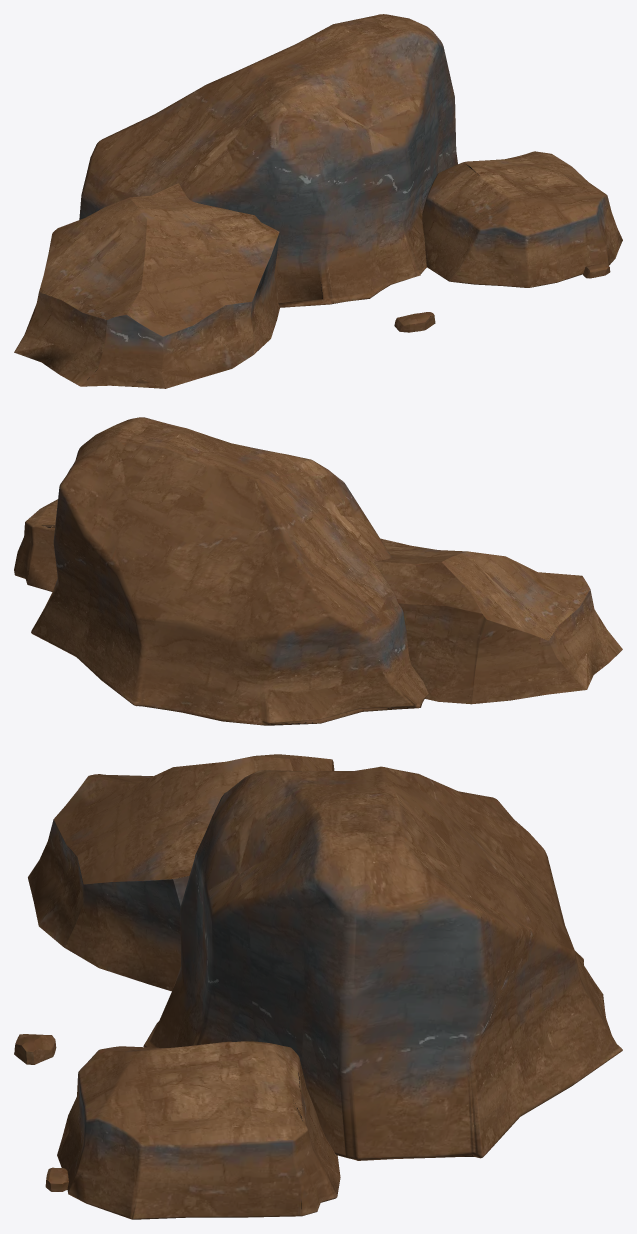
File: titanium-three-knuckles.glb
The picture shows the model from 3 angles, top to bottom: view 1: azimuth 30°, elevation 25°; view 2: azimuth 150°, elevation 25°; view 3: azimuth 270°, elevation 25°; orthographic projection. The views are drawn at different scales.
Visible parts, largest first — view 1: Titanium three-knuckles / baked runtime; view 2: Titanium three-knuckles / baked runtime; view 3: Titanium three-knuckles / baked runtime.
Boxes of the visible parts, <box> form: Titanium three-knuckles / baked runtime: <box>14,14,622,388</box>; Titanium three-knuckles / baked runtime: <box>14,417,622,725</box>; Titanium three-knuckles / baked runtime: <box>14,754,622,1219</box>.
Bounding box in the file's own units: 9.92 × 3.3 × 6.44.
1 material, 1 textured.
